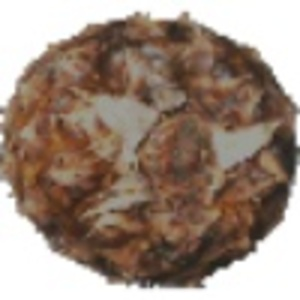abacaxi: (2, 11, 293, 275)
